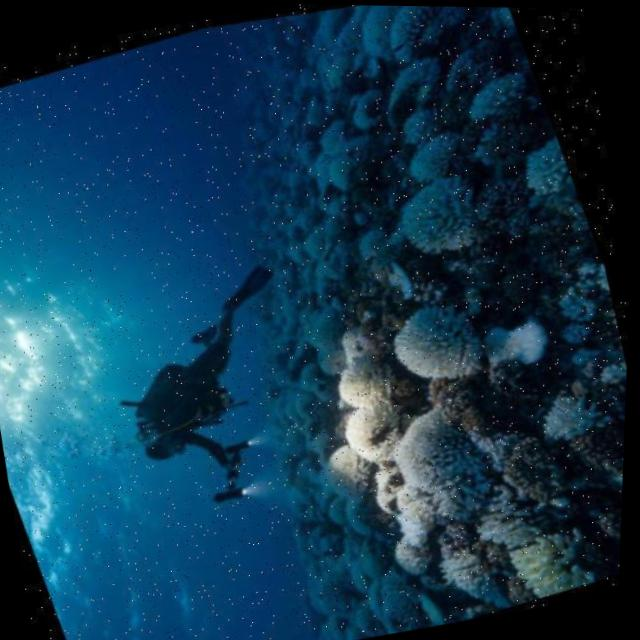Bleached Coral: (206, 3, 640, 640)
